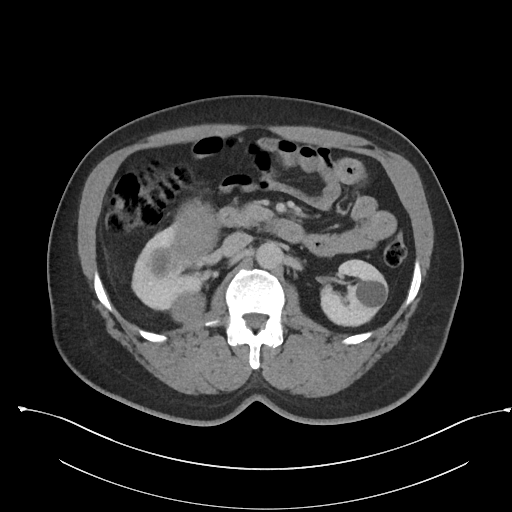Lesion: (352, 277, 389, 311)
